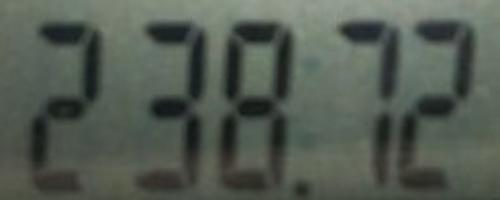.: (288, 178, 314, 198)
